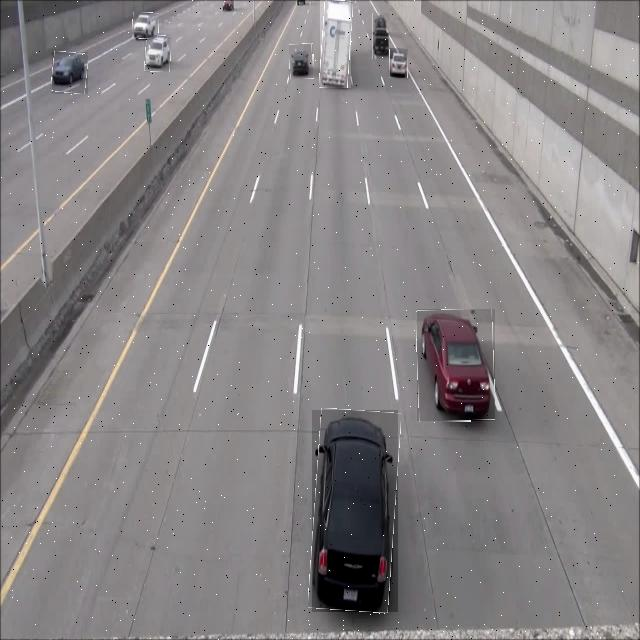Car: (312, 410, 398, 612), (417, 309, 495, 422), (52, 52, 88, 94), (144, 35, 171, 72), (290, 44, 314, 79), (372, 13, 389, 59), (133, 13, 159, 39), (390, 48, 408, 78)
Truck: (320, 0, 351, 88)
